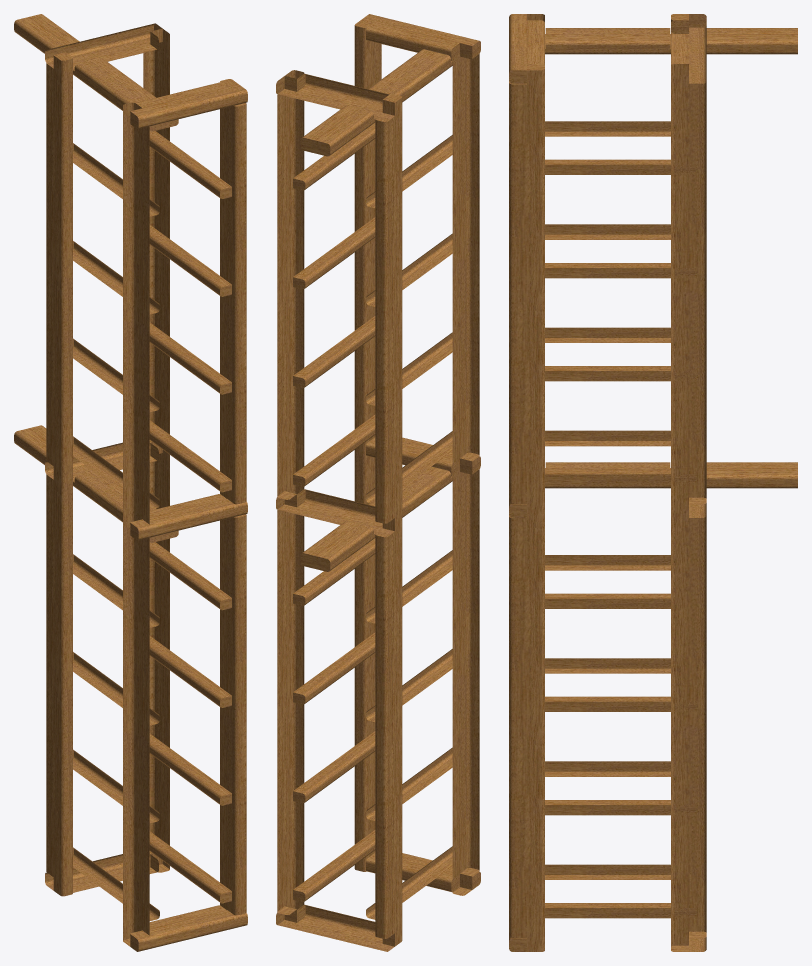
File: VCKA0041.glb
The picture shows the model from 3 angles, left to right: view 1: azimuth 30°, elevation 25°; view 2: azimuth 150°, elevation 25°; view 3: azimuth 270°, elevation 25°; orthographic projection. The views are drawn at different scales.
Parts seen in each view (by area): view 1: Mesh_10.008; view 2: Mesh_10.008; view 3: Mesh_10.008.
Part boxes in pixels (left/top/right/bottom): Mesh_10.008: left=14, top=14, right=247, bottom=951; Mesh_10.008: left=276, top=14, right=480, bottom=951; Mesh_10.008: left=509, top=14, right=797, bottom=951.
Size of the model in its own units: 0.111 by 0.812 by 0.241.
2 materials, 2 textured.
